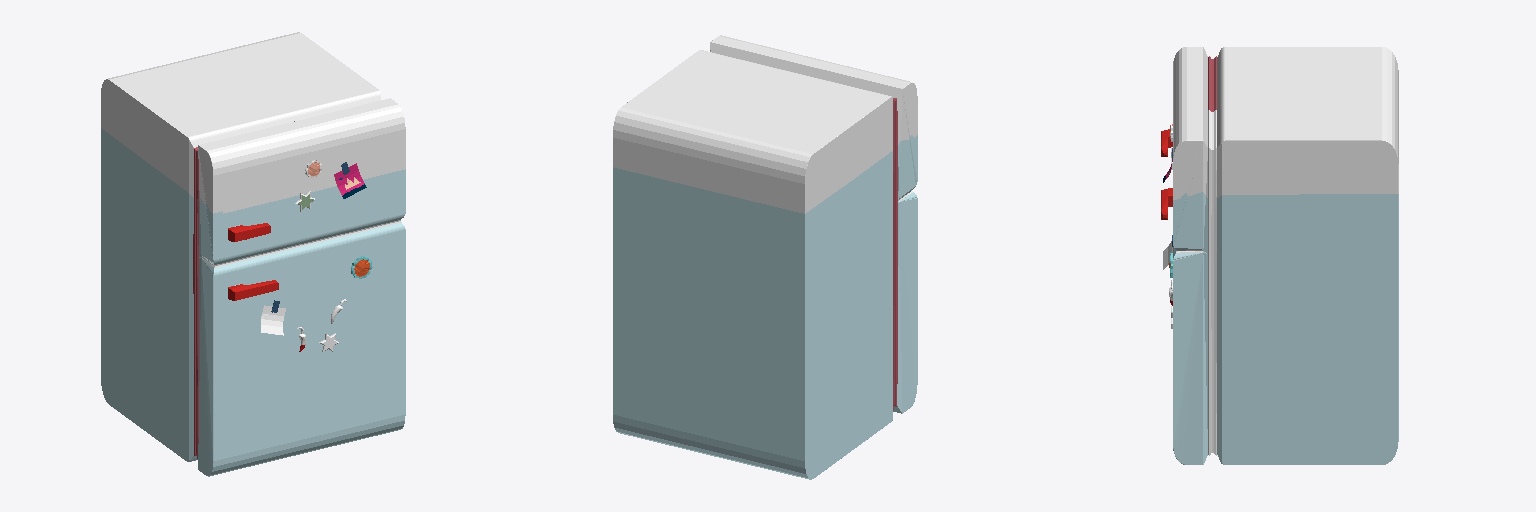
The picture shows the model from 3 angles: view 1: azimuth 30°, elevation 25°; view 2: azimuth 150°, elevation 25°; view 3: azimuth 270°, elevation 25°; orthographic projection.
Visible parts, largest first — view 1: model_1; view 2: model_1; view 3: model_1.
Boxes of the visible parts, x1,y1,x2,y2 form: model_1: [101, 32, 405, 476]; model_1: [613, 35, 917, 479]; model_1: [1161, 47, 1398, 464].
Bounding box in the file's own units: 2.36 × 3.8 × 2.51.
1 materials, 1 textured.